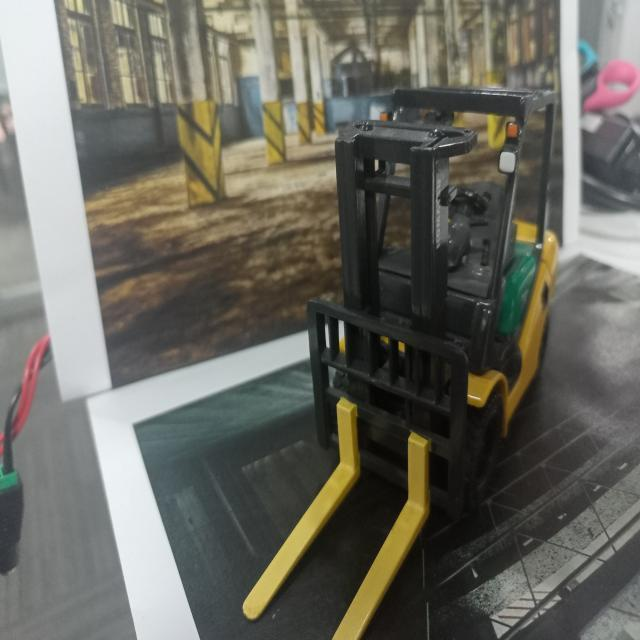forklift: (325, 75, 548, 520)
